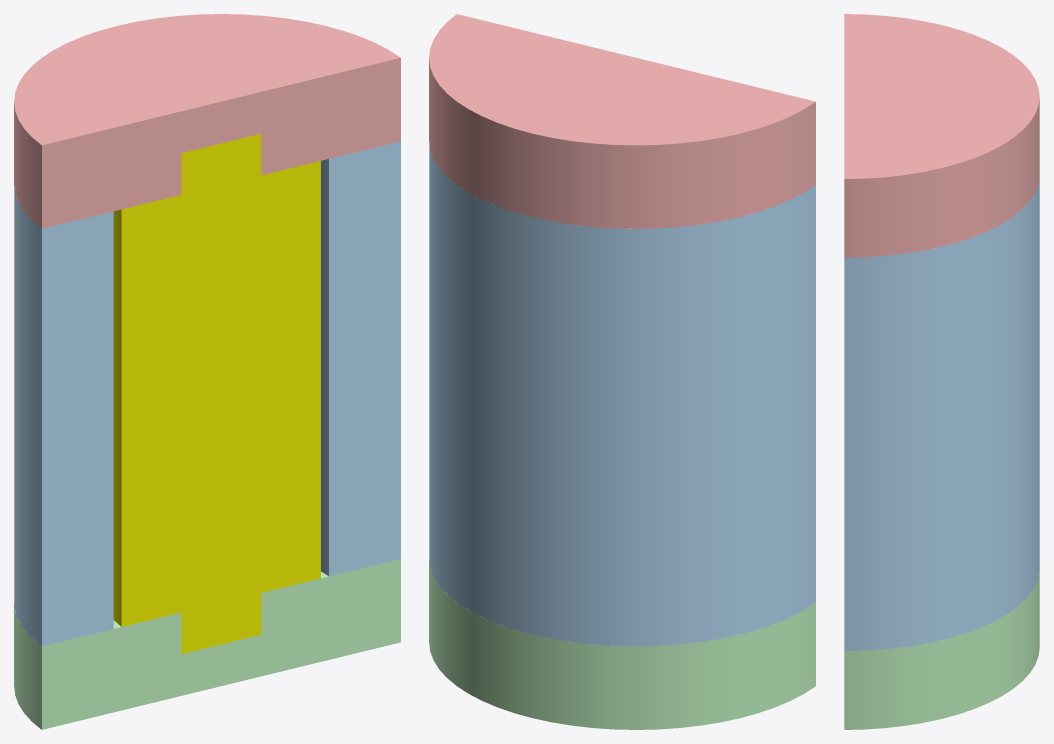
File: simple_product_cutset.gltf
3 views of the same model, side by side, from view 1: azimuth 30°, elevation 25°; view 2: azimuth 150°, elevation 25°; view 3: azimuth 270°, elevation 25° (orthographic). The views are drawn at different scales.
Visible parts, largest first — view 1: Part_D-1, Part_B-1, Part_C-1, Part_A-1; view 2: Part_B-1, Part_C-1, Part_A-1; view 3: Part_B-1, Part_C-1, Part_A-1.
Boxes of the visible parts, x1,y1,x2,y2 form: Part_D-1: [113, 133, 320, 653]; Part_B-1: [14, 141, 400, 646]; Part_C-1: [14, 14, 400, 228]; Part_A-1: [14, 559, 400, 729]; Part_B-1: [429, 145, 815, 646]; Part_C-1: [429, 14, 815, 228]; Part_A-1: [429, 558, 815, 729]; Part_B-1: [844, 177, 1039, 651]; Part_C-1: [844, 14, 1039, 257]; Part_A-1: [844, 570, 1039, 729].
Bounding box in the file's own units: 0.09 × 0.14 × 0.045.
